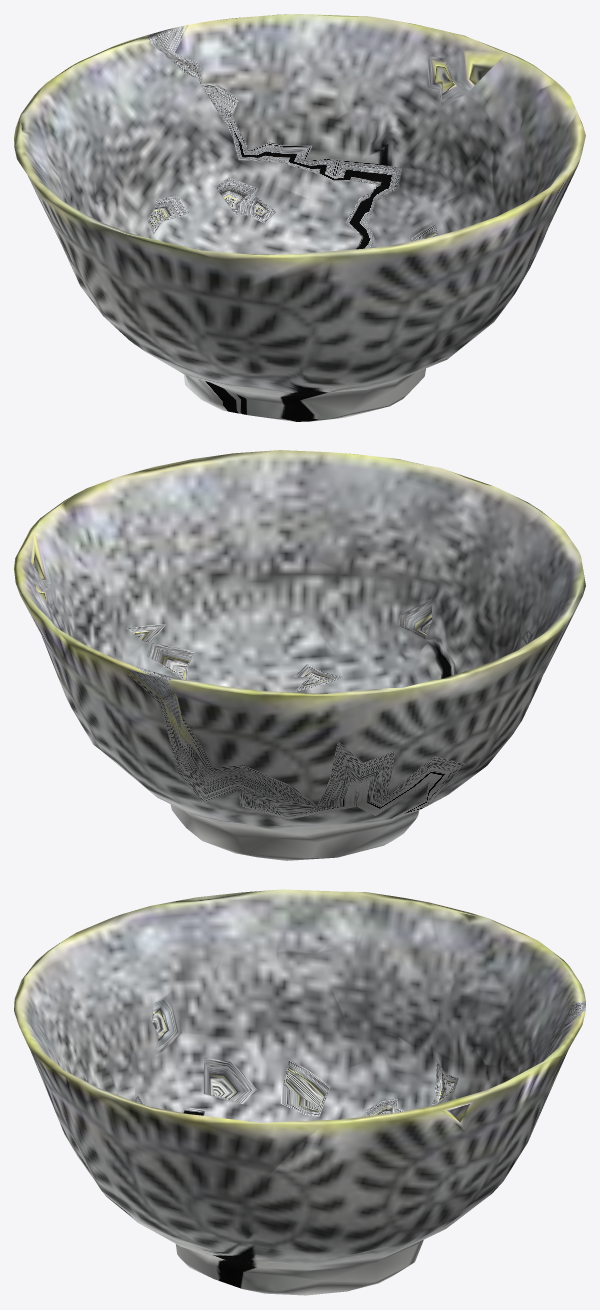
Rendered from gso_now_designs_bowl_akita_black.glb.
3 renders of one model, top to bottom at view 1: azimuth 30°, elevation 25°; view 2: azimuth 150°, elevation 25°; view 3: azimuth 270°, elevation 25°, orthographic.
Visible parts, largest first — view 1: z-up-to-y-up; view 2: z-up-to-y-up; view 3: z-up-to-y-up.
Boxes of the visible parts, left/top/right/bottom form: z-up-to-y-up: left=14, top=14, right=585, bottom=421; z-up-to-y-up: left=14, top=450, right=585, bottom=860; z-up-to-y-up: left=14, top=889, right=585, bottom=1295.
Size of the model in its own units: 0.1594 by 0.075 by 0.1588.
Materials: 1 (1 with a texture image).
